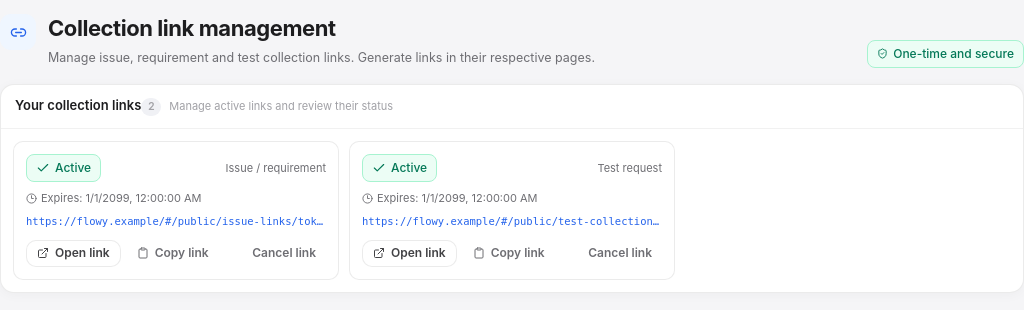
Test case: TemporaryIssueLinksPage › cancels a test link without cancelling an issue link with the same id
This screenshot has width=1024, height=310.
Click the button "Cancel link" below "Test request". click: (620, 253)
box: [578,241,662,266]
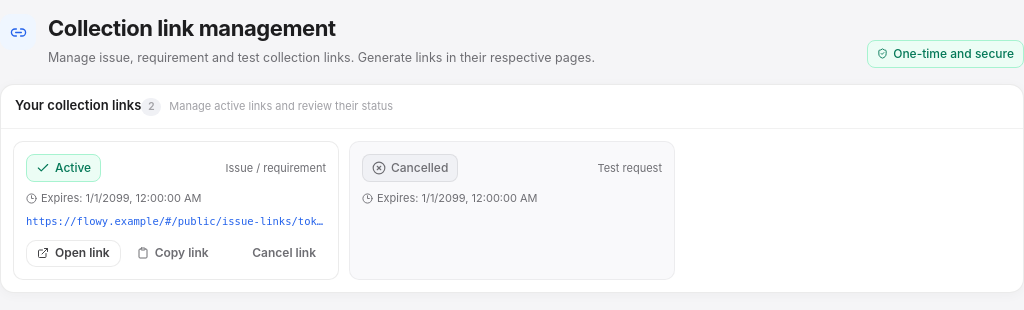
Check: the number of links "Open link" is 1, box [26,240,121,267]
Check: the text "Cancelled" is shown, box [362,154,458,182]
